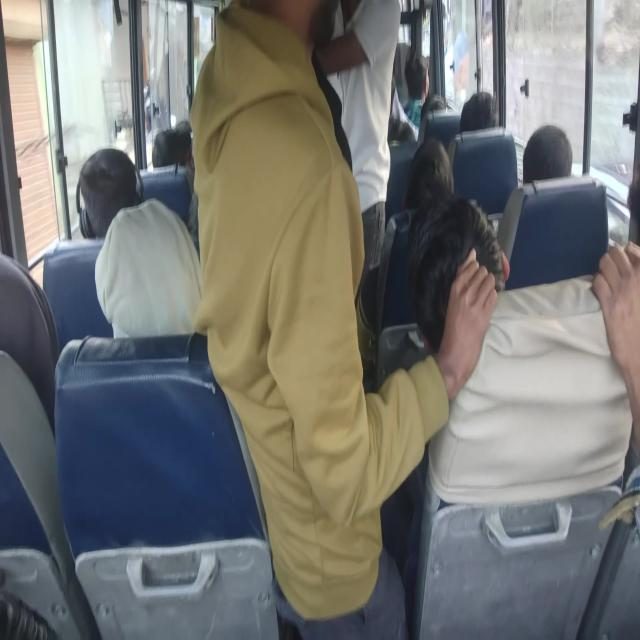person: (179, 0, 343, 389), (305, 0, 401, 209), (112, 206, 206, 334), (424, 215, 506, 339), (0, 272, 55, 414), (63, 148, 132, 214), (524, 123, 594, 185), (413, 150, 454, 217), (143, 120, 194, 173), (460, 84, 500, 123), (160, 114, 205, 146), (406, 54, 434, 89), (426, 93, 440, 118)
